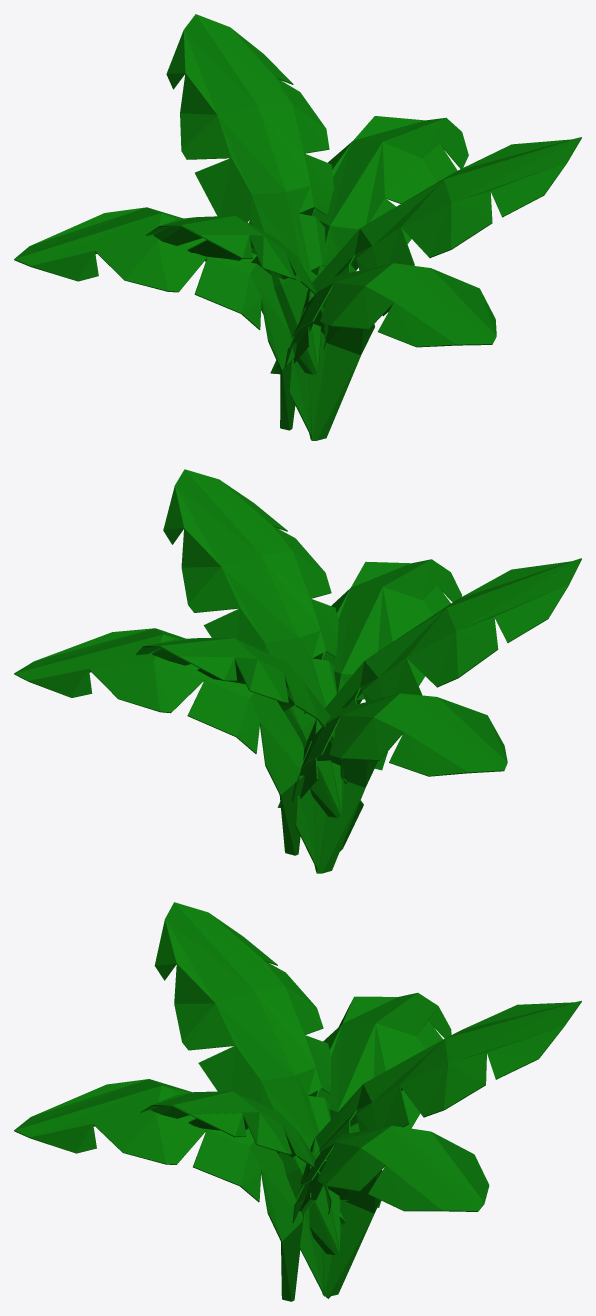
Rendered from testPlant.fbx.
The picture shows the model from 3 angles, top to bottom: view 1: azimuth 30°, elevation 25°; view 2: azimuth 150°, elevation 25°; view 3: azimuth 270°, elevation 25°; orthographic projection.
Parts seen in each view (by area): view 1: Plane204, Plane202, Plane200, Plane205, Plane201, Plane203; view 2: Plane205, Plane201, Plane200, Plane203, Plane202, Plane204; view 3: Plane203, Plane202, Plane201, Plane204, Plane200, Plane205.
Boxes of the visible parts, x1,y1,x2,y2 form: Plane204: (166, 14, 333, 374); Plane202: (284, 263, 496, 440); Plane200: (14, 207, 295, 430); Plane205: (270, 137, 581, 374); Plane201: (299, 116, 468, 275); Plane203: (145, 215, 329, 349); Plane205: (163, 469, 344, 817); Plane201: (14, 628, 304, 855); Plane200: (292, 693, 507, 873); Plane203: (277, 558, 581, 807); Plane202: (312, 559, 461, 851); Plane204: (135, 638, 343, 780); Plane203: (154, 902, 341, 1254); Plane202: (14, 1079, 302, 1301); Plane201: (292, 1125, 489, 1296); Plane204: (299, 1000, 581, 1211); Plane200: (308, 992, 451, 1298); Plane205: (140, 1091, 331, 1214).
Bounding box in the file's own units: 14.88 × 9.67 × 15.88.
